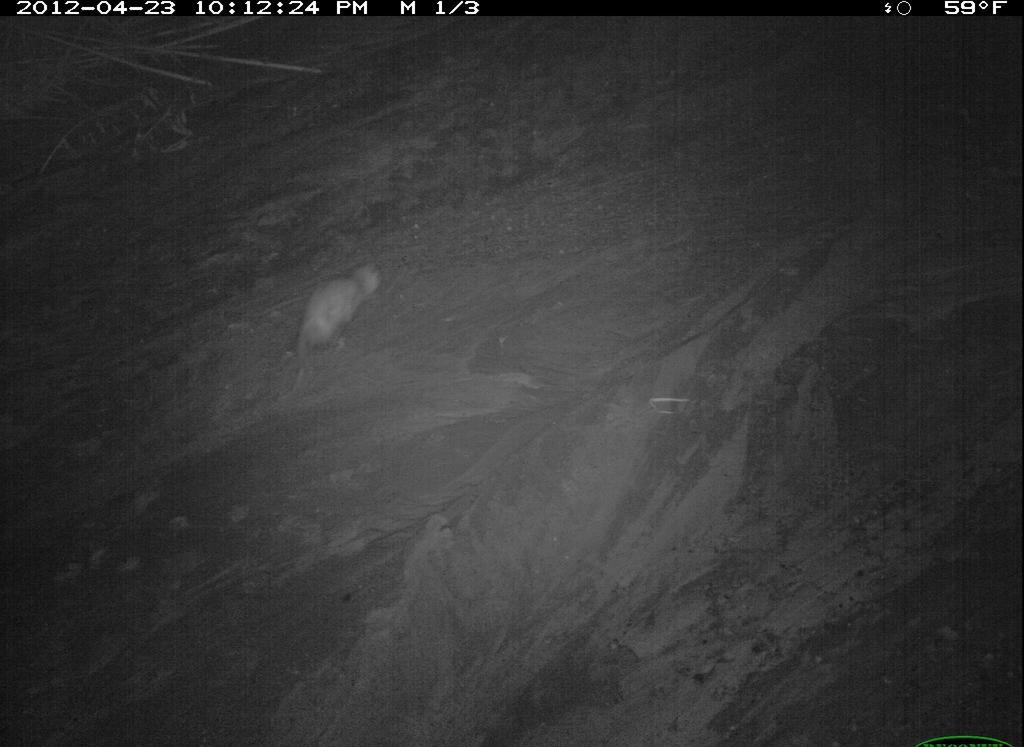opossum: (583, 509, 777, 747)
